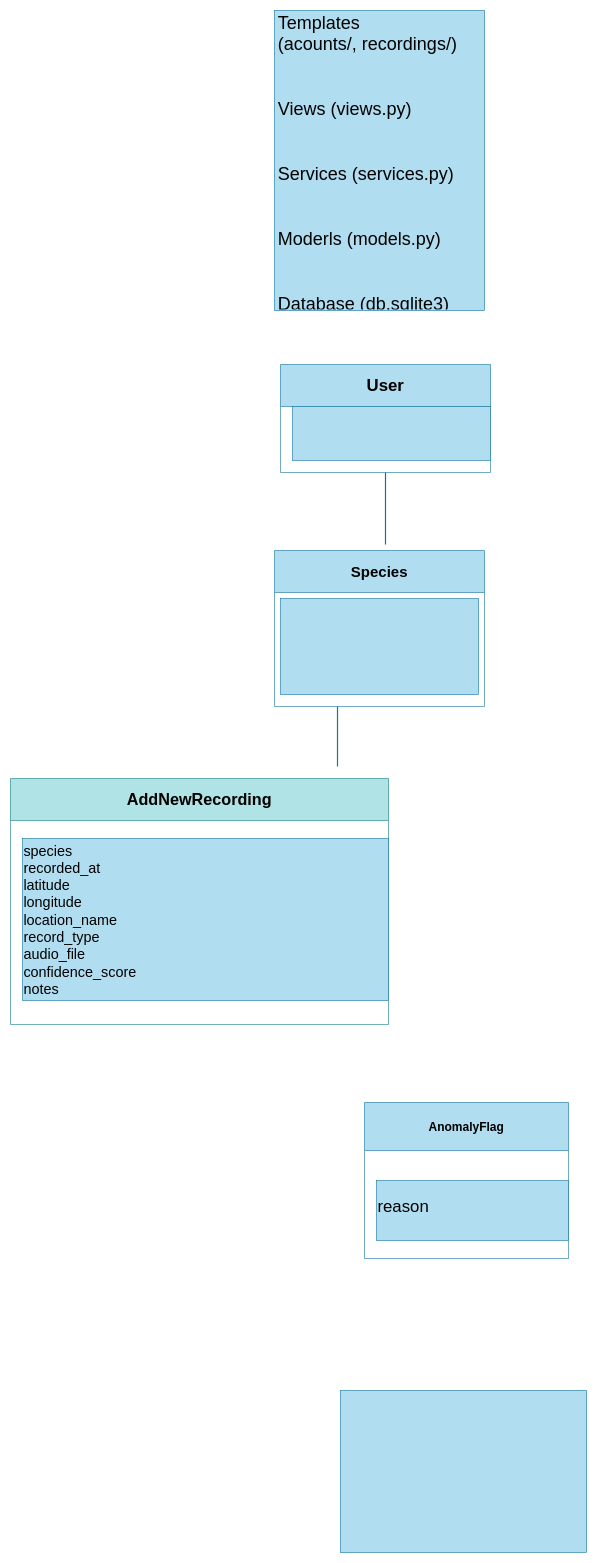
This 597x1563 diagram has some shape labels left out. Here are the shapes that lost their labels. From the top down, the centre of each, then its label:
At pixel 391 433: "username password confirm password".
At pixel 379 646: "common_name scientific_name conservation_status native_status description".
At pixel 463 1471: "Froms -SpeciesForm -AddRecordingForm -FlagAsAnomalyForm".
